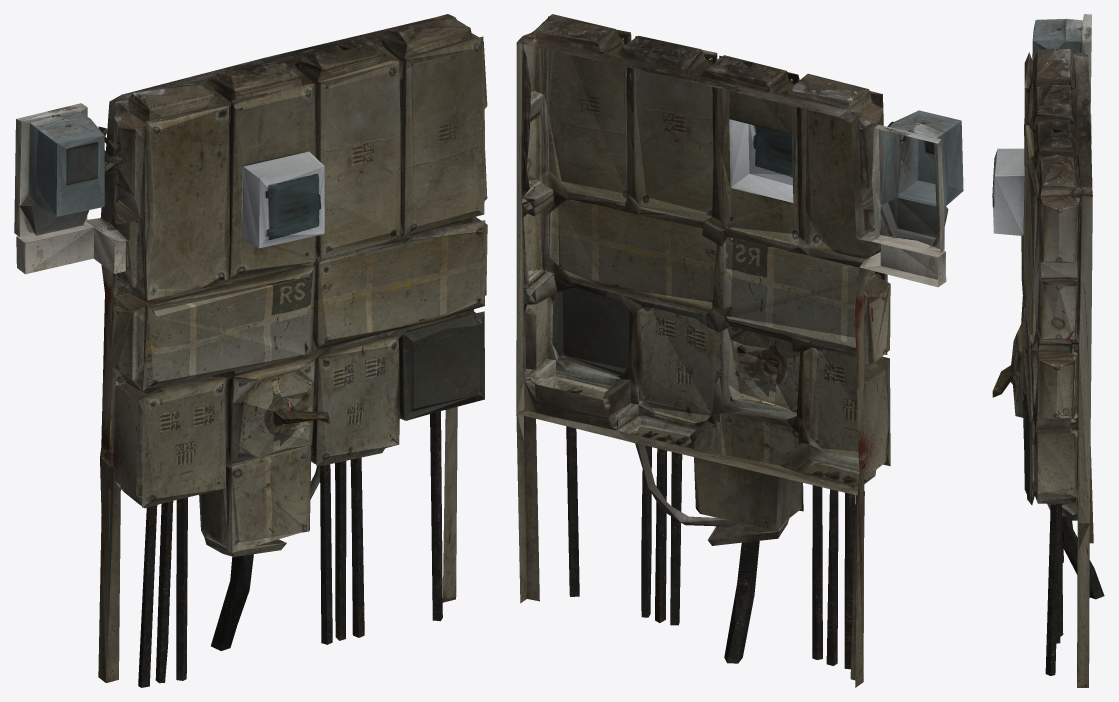
Rendered from Electric_Box_LOD2.fbx.
3 renders of one model, left to right at view 1: azimuth 30°, elevation 25°; view 2: azimuth 150°, elevation 25°; view 3: azimuth 270°, elevation 25°, orthographic. The views are drawn at different scales.
Parts seen in each view (by area): view 1: box_LOD2; view 2: box_LOD2; view 3: box_LOD2.
Boxes of the visible parts, x1,y1,x2,y2 form: box_LOD2: (14, 14, 487, 687); box_LOD2: (516, 14, 963, 687); box_LOD2: (992, 14, 1104, 687).
Bounding box in the file's own units: 129 × 163 × 32.71.
